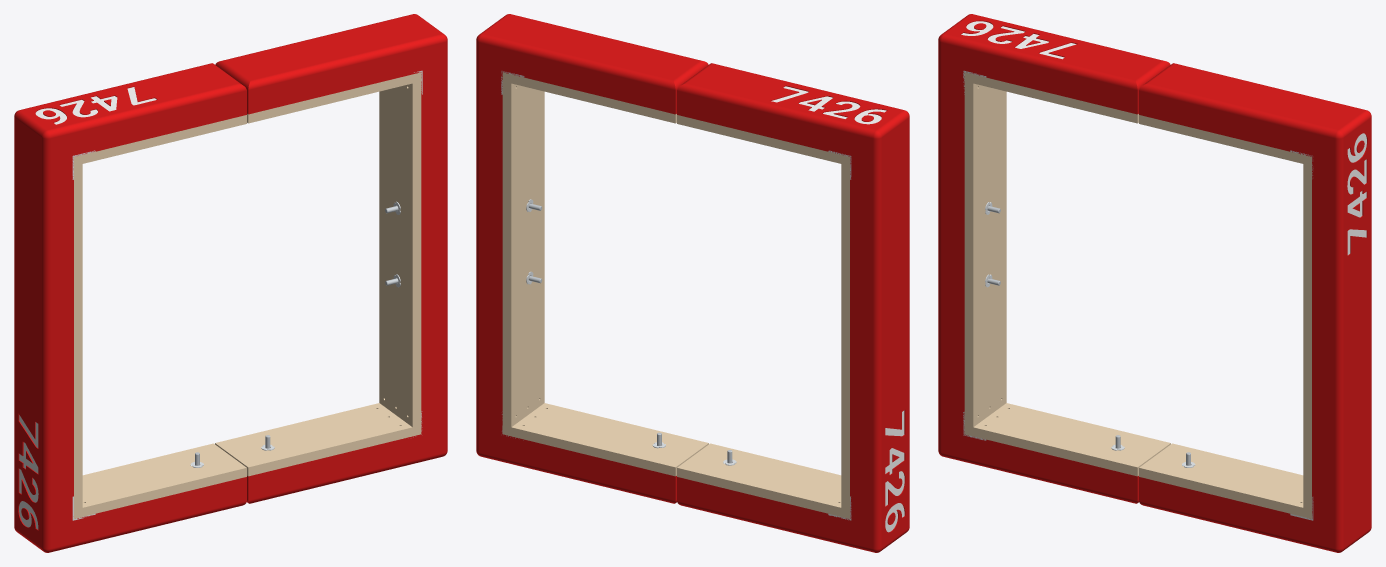
The model's file is robot-2025-bumpers.glb.
3 views of the same model, side by side, from view 1: azimuth 30°, elevation 25°; view 2: azimuth 150°, elevation 25°; view 3: azimuth 330°, elevation 25° (orthographic).
Visible parts, largest first — view 1: Bumper (×2), BumperWoodFull (×2), BumperWoodHalf (×4); view 2: Bumper (×2), BumperWoodFull (×2), BumperWoodHalf (×4); view 3: Bumper (×2), BumperWoodFull (×2), BumperWoodHalf (×4).
Part boxes in pixels (left/top/right/bottom): Bumper (×2): left=14, top=14, right=447, bottom=552; BumperWoodFull (×2): left=74, top=81, right=421, bottom=509; BumperWoodHalf (×4): left=74, top=72, right=421, bottom=518; Bumper (×2): left=476, top=14, right=909, bottom=552; BumperWoodFull (×2): left=502, top=81, right=849, bottom=509; BumperWoodHalf (×4): left=502, top=72, right=849, bottom=518; Bumper (×2): left=938, top=14, right=1371, bottom=552; BumperWoodFull (×2): left=964, top=81, right=1311, bottom=509; BumperWoodHalf (×4): left=964, top=72, right=1311, bottom=518.
Bounding box in the file's own units: 0.8922 × 0.889 × 0.127.
